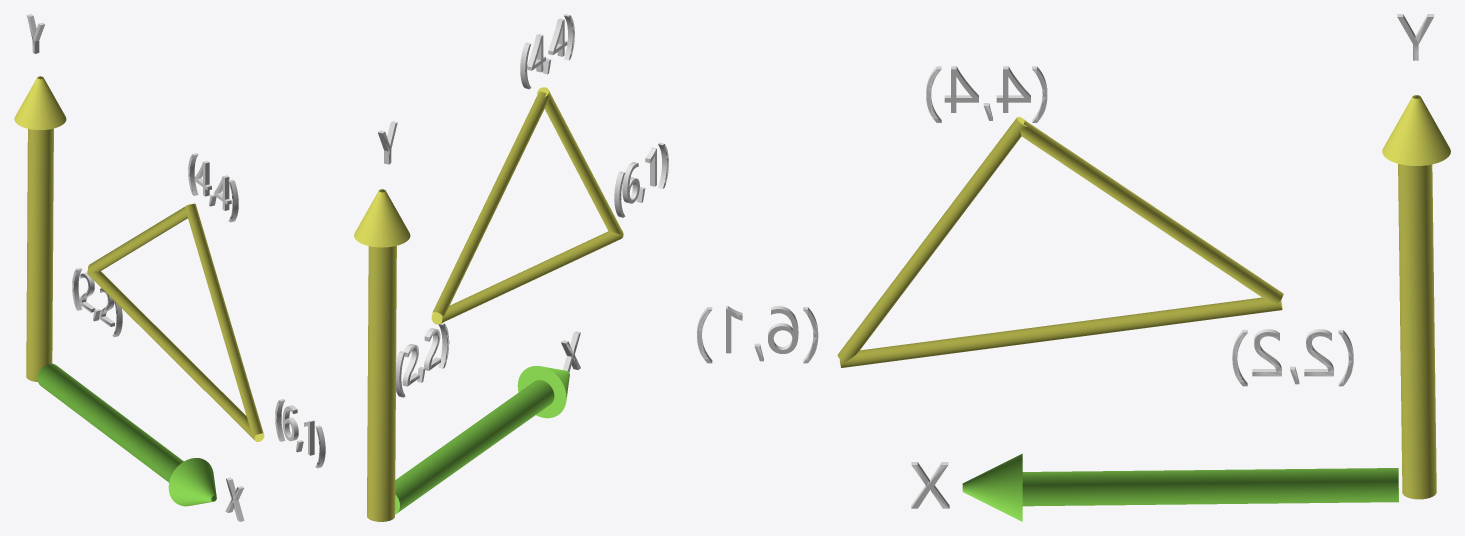
The picture shows the model from 3 angles, left to right: view 1: azimuth 30°, elevation 25°; view 2: azimuth 150°, elevation 25°; view 3: azimuth 270°, elevation 25°; orthographic projection. The views are drawn at different scales.
Visible parts, largest first — view 1: Cylinder.061, Cylinder.062, Cylinder.059, Cylinder.058, Cone.047, Cone.046, Cylinder.060; view 2: Cylinder.061, Cylinder.062, Cylinder.060, Cylinder.058, Cone.046, Cylinder.059, Cone.047; view 3: Cylinder.062, Cylinder.061, Cylinder.058, Cylinder.060, Cylinder.059, Cone.046, Cone.047.
Part boxes in pixels (bbox=[...]): Cylinder.061: bbox=[26, 128, 53, 381]; Cylinder.062: bbox=[37, 363, 183, 482]; Cylinder.059: bbox=[184, 203, 263, 435]; Cylinder.058: bbox=[87, 270, 264, 441]; Cone.047: bbox=[168, 458, 216, 506]; Cone.046: bbox=[14, 76, 66, 129]; Cylinder.060: bbox=[88, 204, 191, 272]; Cylinder.061: bbox=[367, 246, 396, 521]; Cylinder.062: bbox=[395, 380, 554, 514]; Cylinder.060: bbox=[432, 91, 549, 317]; Cylinder.058: bbox=[431, 230, 623, 324]; Cone.046: bbox=[354, 189, 410, 247]; Cylinder.059: bbox=[537, 87, 622, 234]; Cone.047: bbox=[517, 366, 569, 418]; Cylinder.062: bbox=[1022, 468, 1398, 506]; Cylinder.061: bbox=[1398, 164, 1436, 499]; Cylinder.058: bbox=[839, 297, 1282, 367]; Cylinder.060: bbox=[1020, 120, 1283, 303]; Cylinder.059: bbox=[837, 116, 1027, 362]; Cone.046: bbox=[1382, 95, 1450, 165]; Cone.047: bbox=[962, 453, 1022, 521].
Size of the model in its own units: 0.0207 by 0.1603 by 0.2193.
